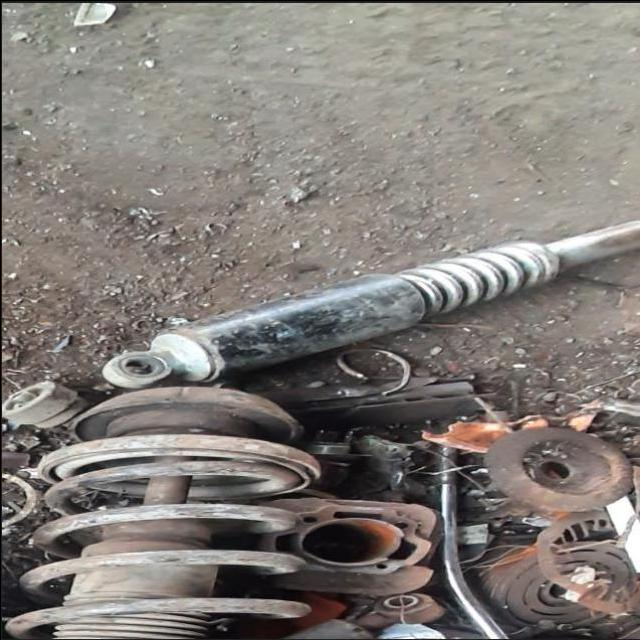shock absorber: (100, 216, 639, 389), (3, 385, 319, 639)
